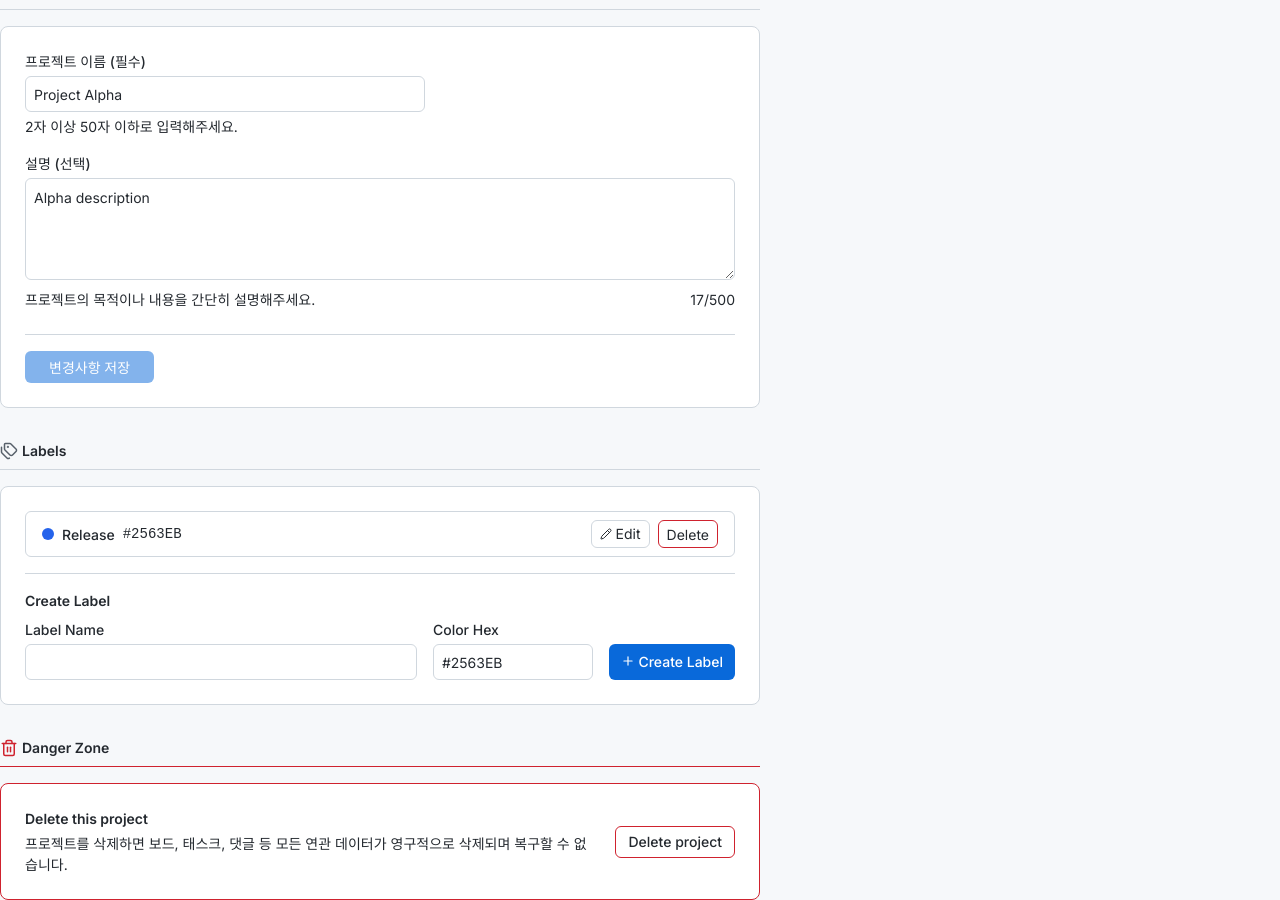
ProjectSettingsPage › shows a delete error message when project deletion fails
This screenshot has width=1280, height=900.
(page scrolled)
Click the button "Delete project" at (675, 842), box [616, 826, 735, 858]
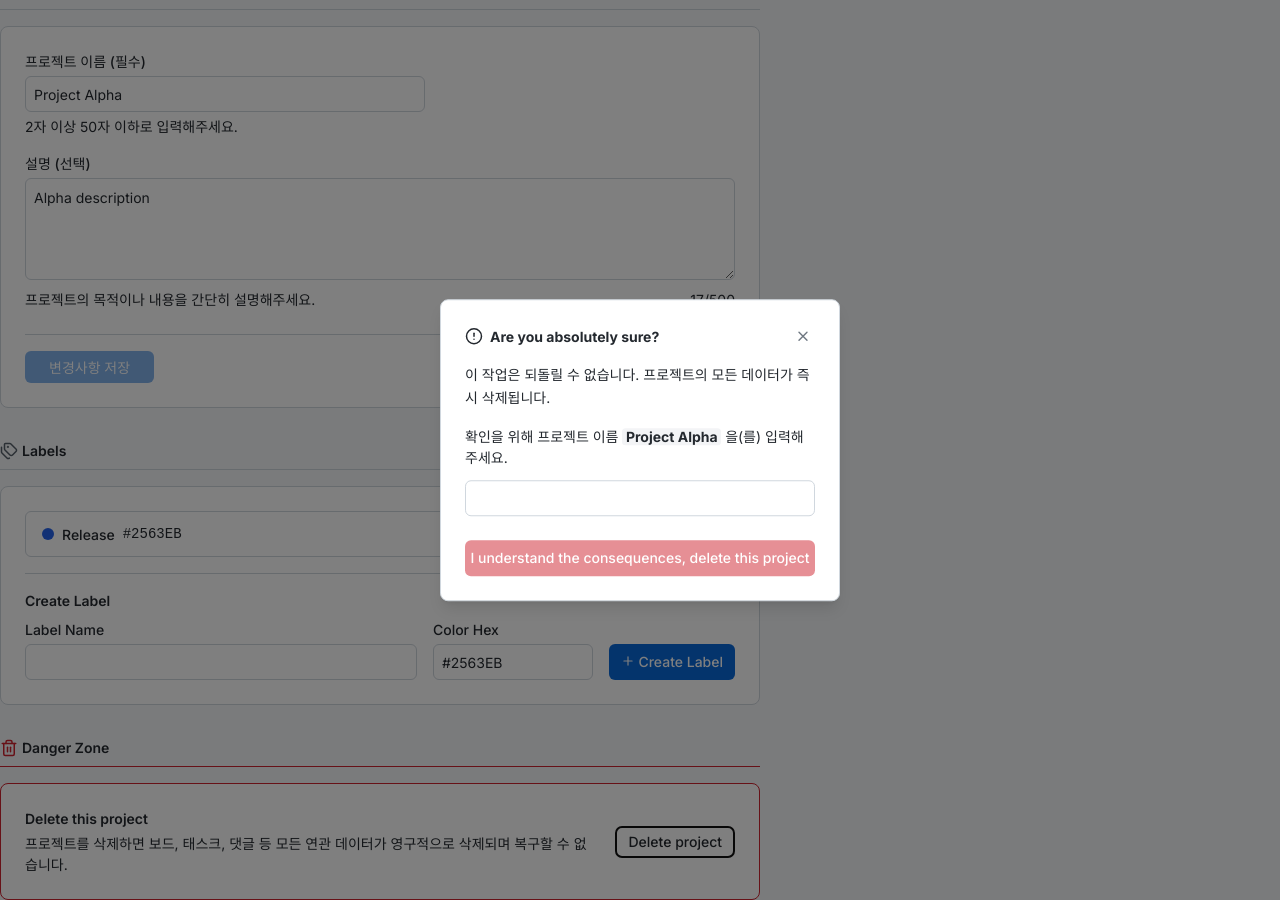
Type "Project Alpha" into the field at (640, 498), box [465, 480, 815, 516]
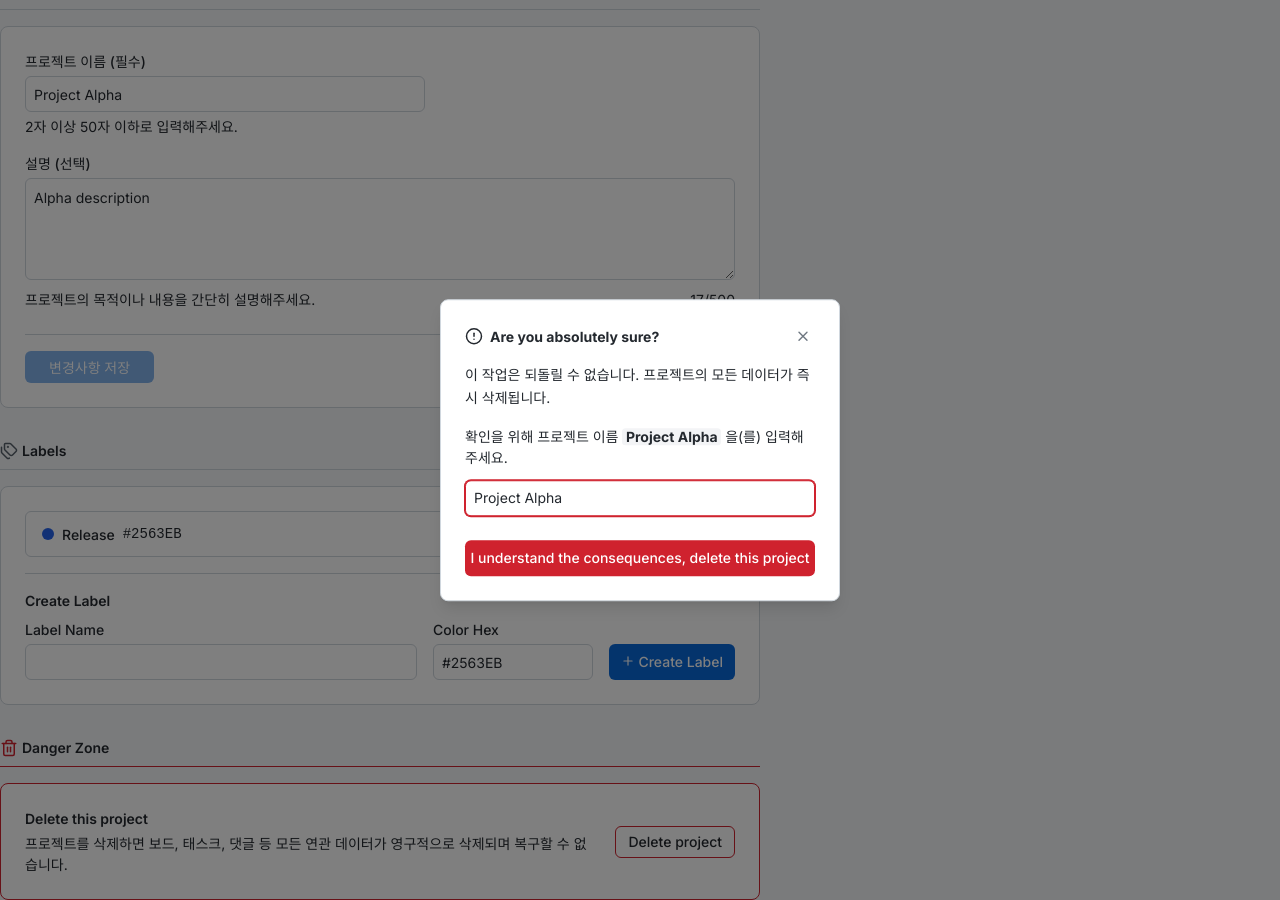
Click the button "I understand the consequences, delete this project" at (640, 558), box [465, 540, 815, 576]
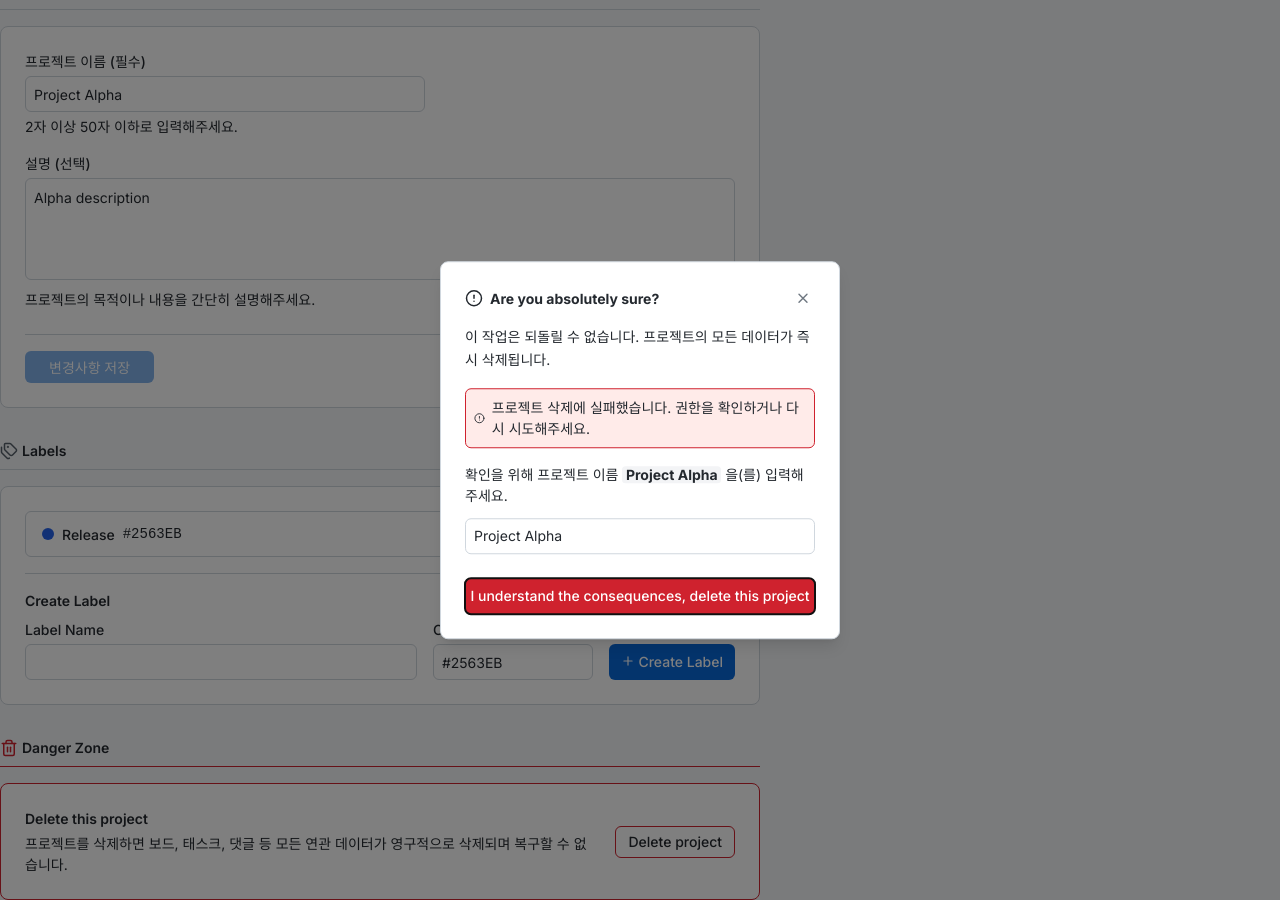
expect the text "프로젝트 삭제에 실패했습니다. 권한을 확인하거나 다시 시도해주세요." is shown: met, box [465, 388, 815, 448]
